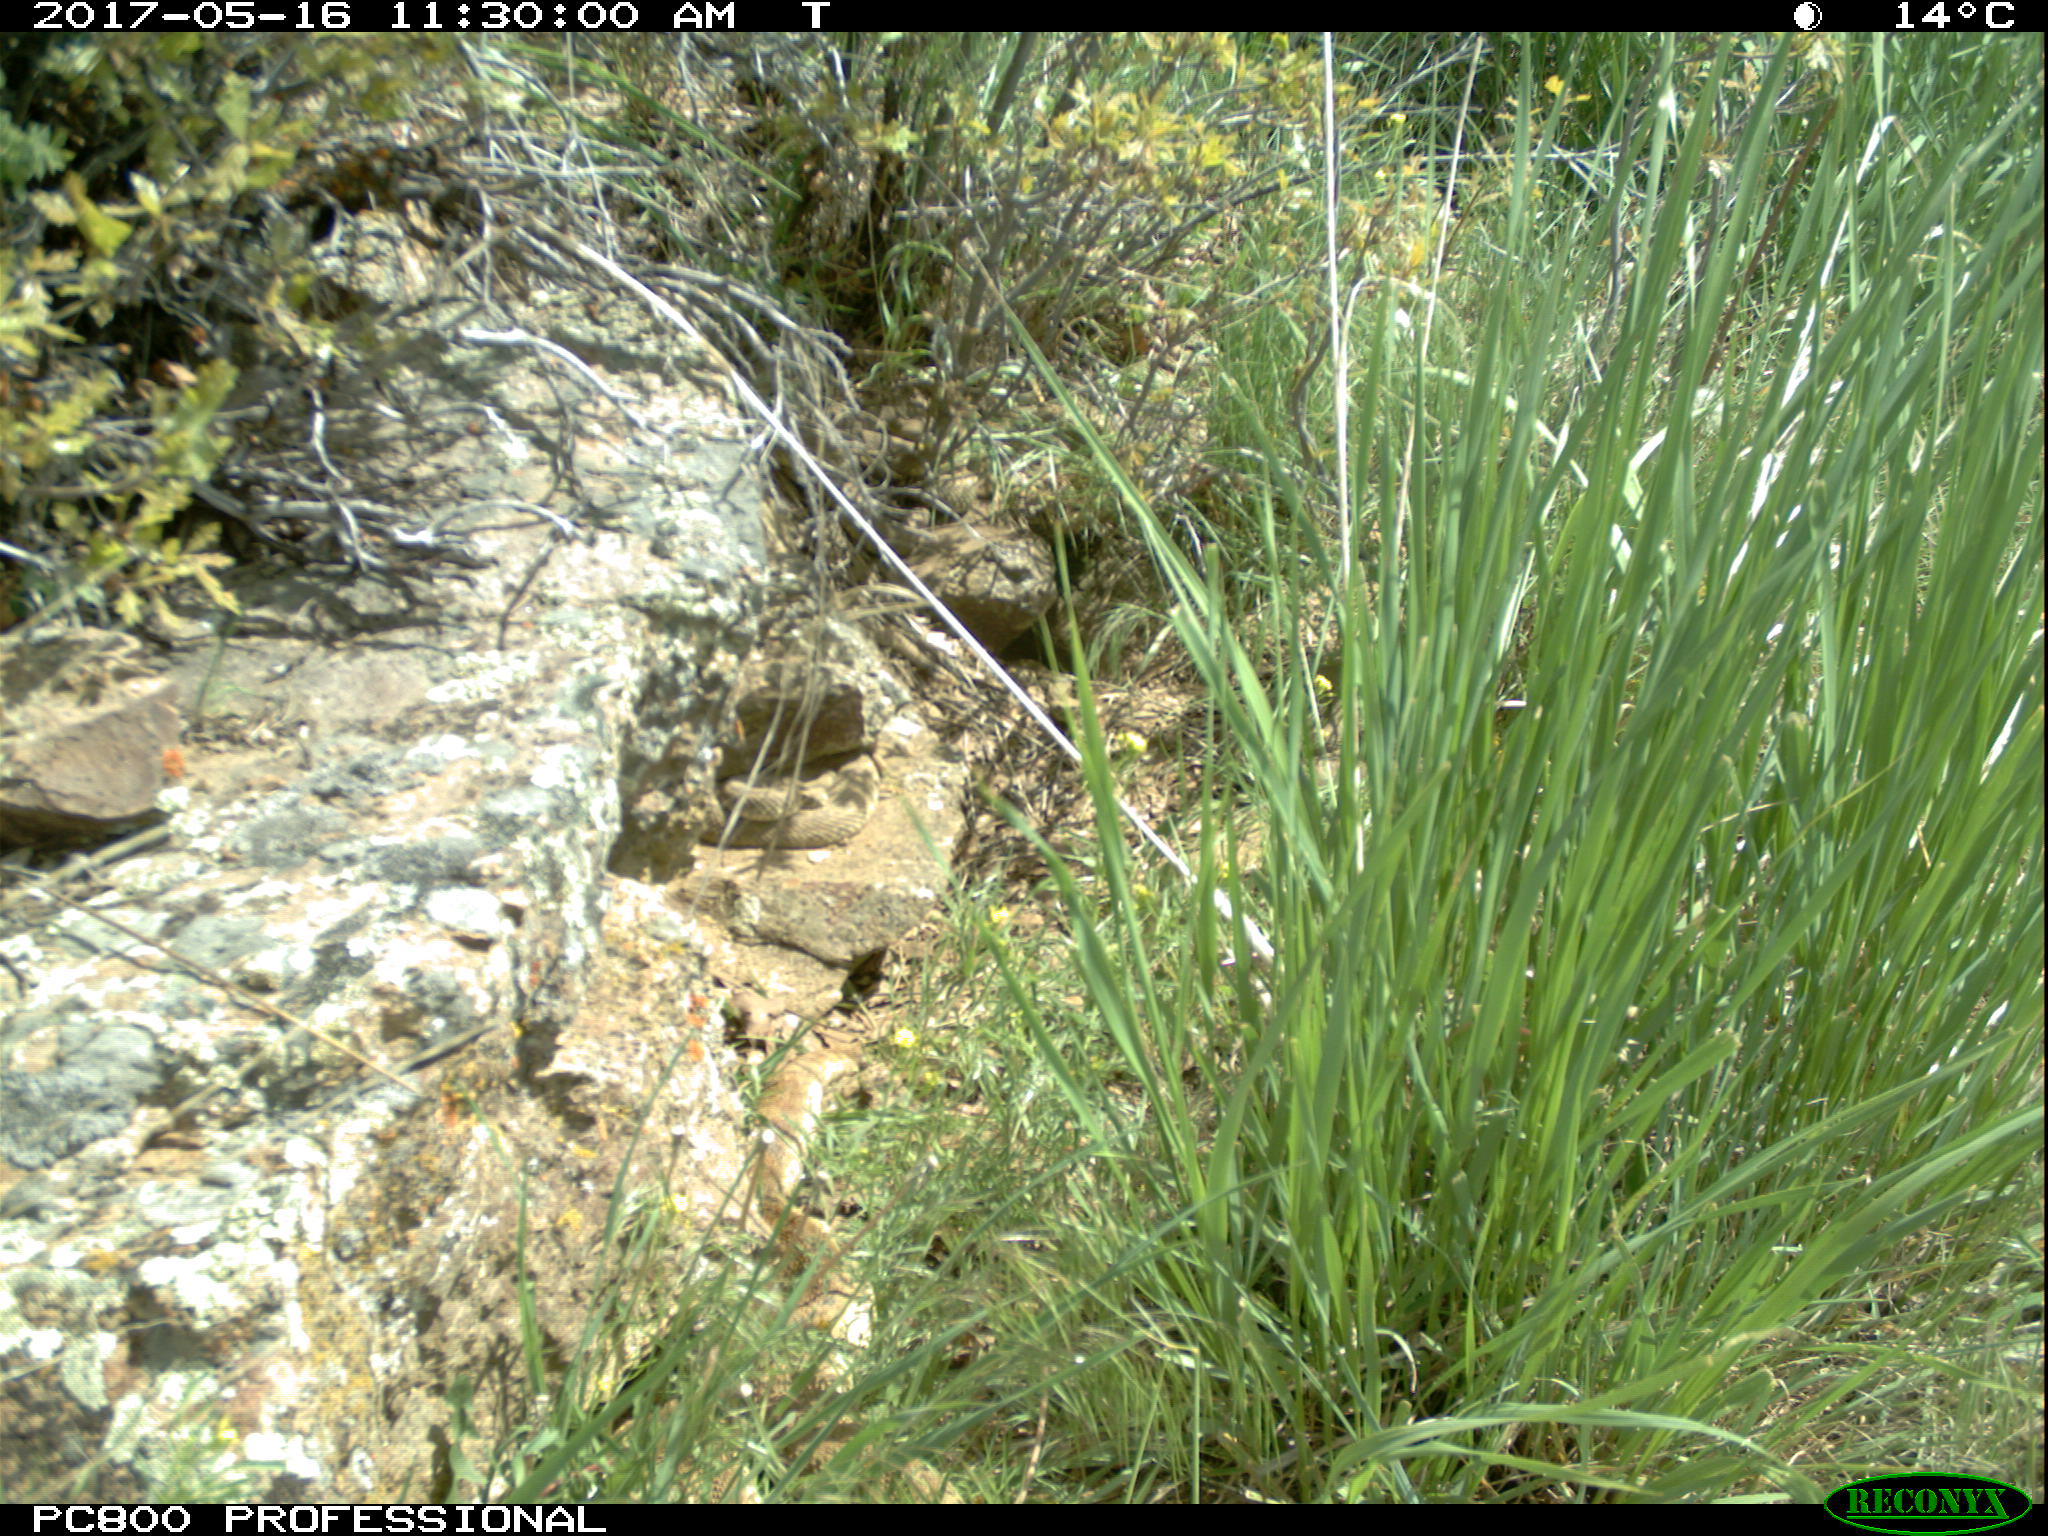snake: (739, 1046, 863, 1378), (693, 758, 884, 845)
